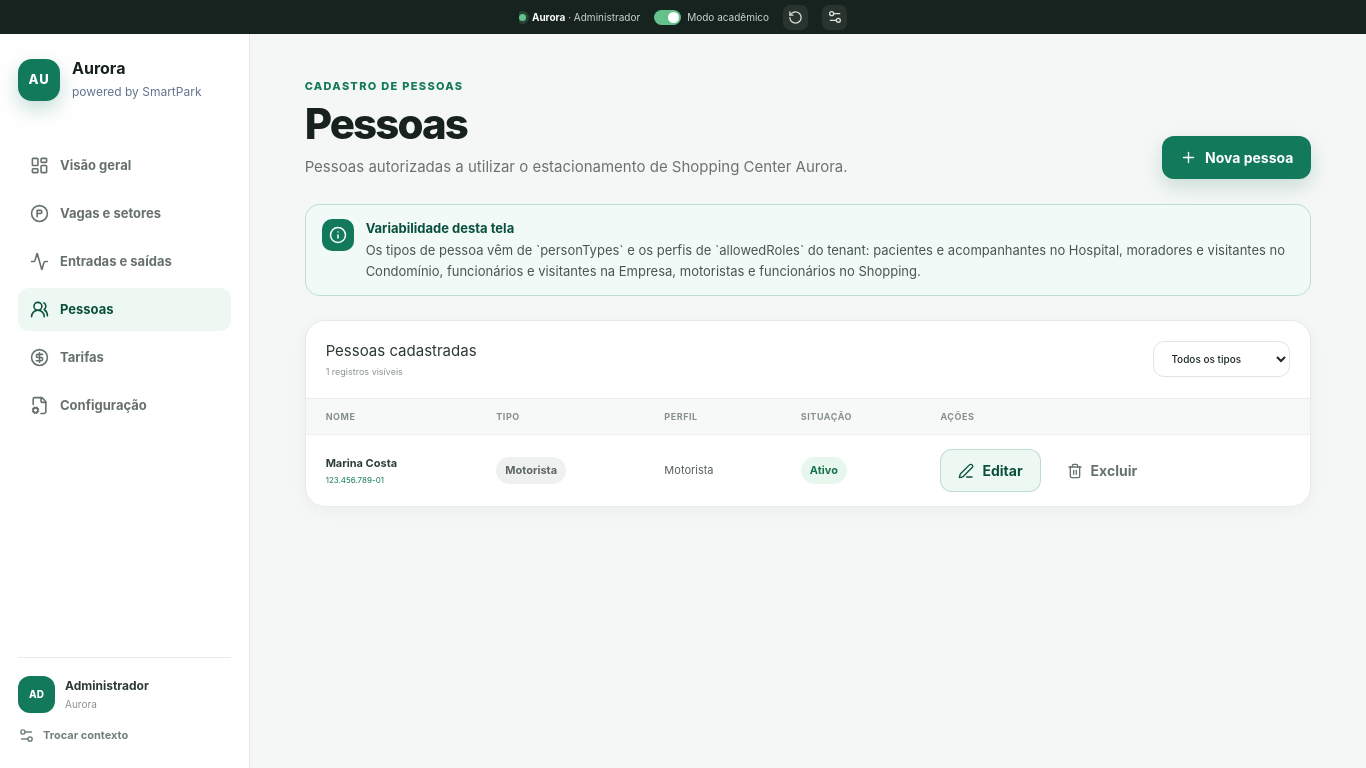
Scenario: pessoas (usuários) › exclui uma pessoa após confirmação
What coordinates should you click on to do the following:
click the button with aria-label "Excluir Marina Costa"
I would click on:
 (1102, 471)
Its box is [1049,449,1155,492].
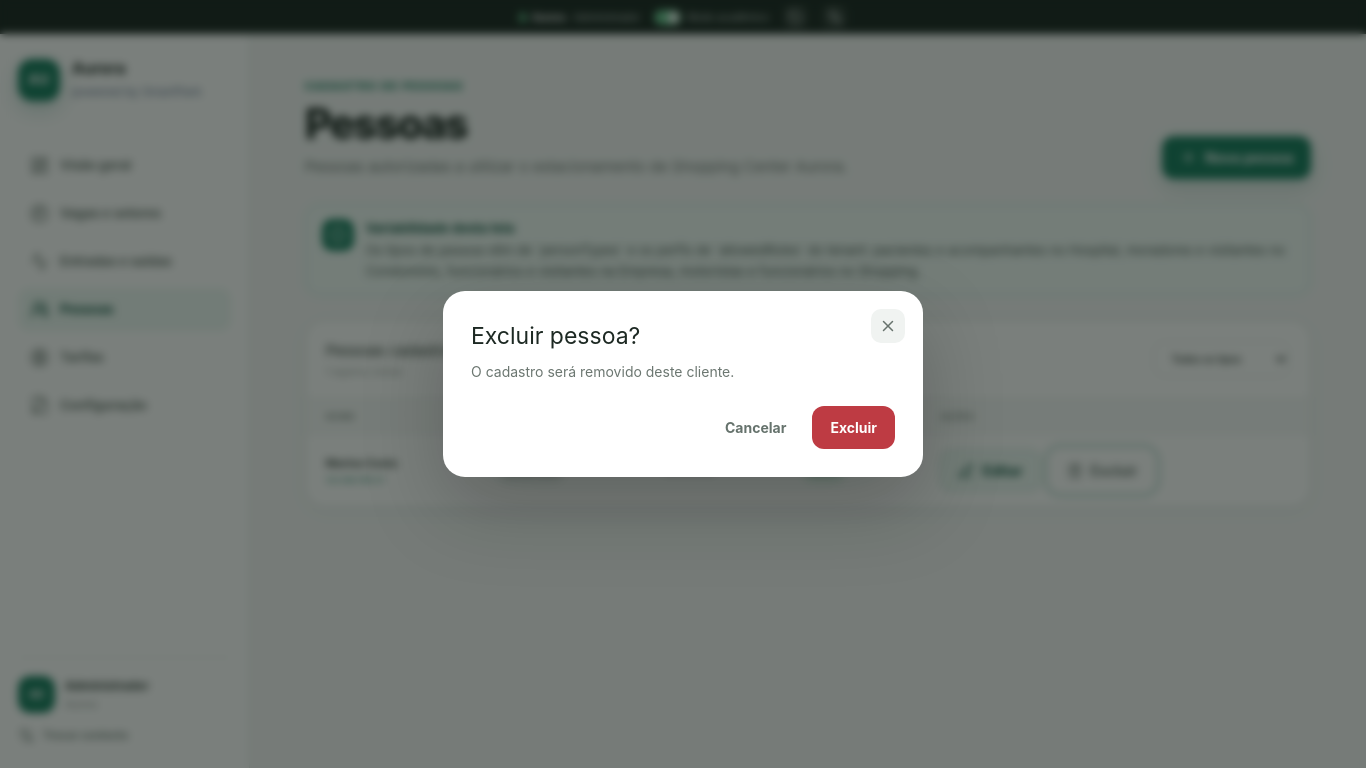
What coordinates should you click on to do the following:
click the button "Excluir"
I would click on:
 (854, 427)
Its box is [812,406,895,449].
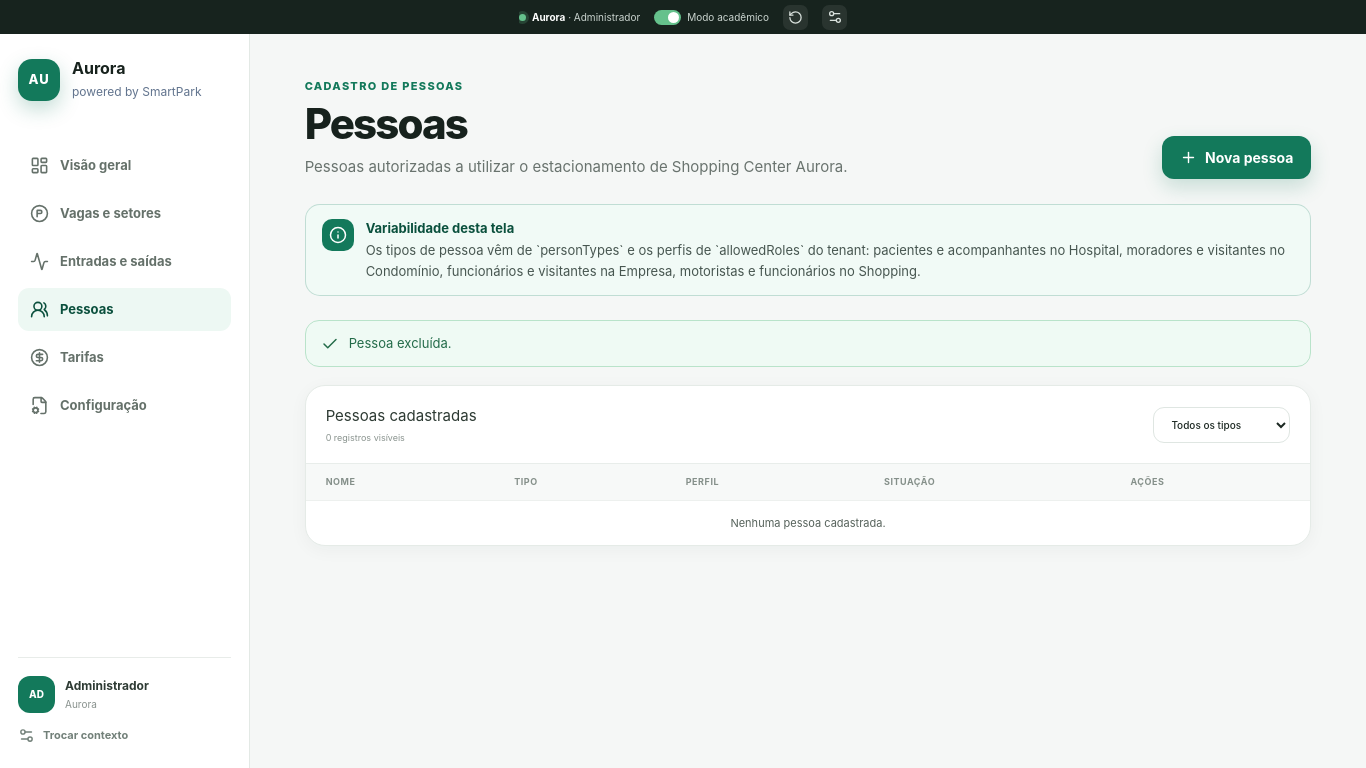
Expected: the text "Pessoa excluída." is shown, [349,334,452,353]
Expected: the text "Marina Costa" is gone
